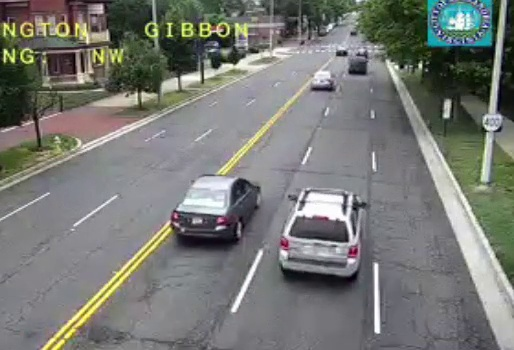car: (278, 186, 361, 279), (171, 174, 262, 241), (310, 70, 334, 90)
